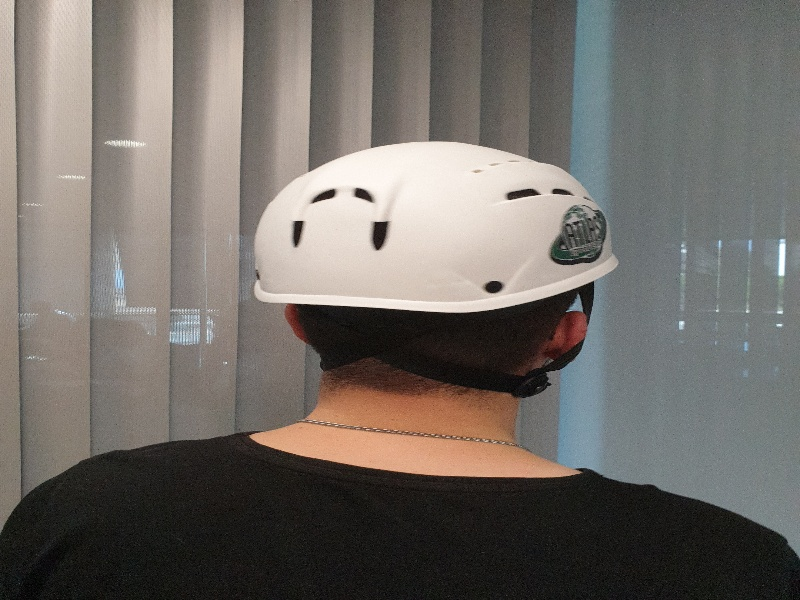Baret: (251, 139, 621, 312)
